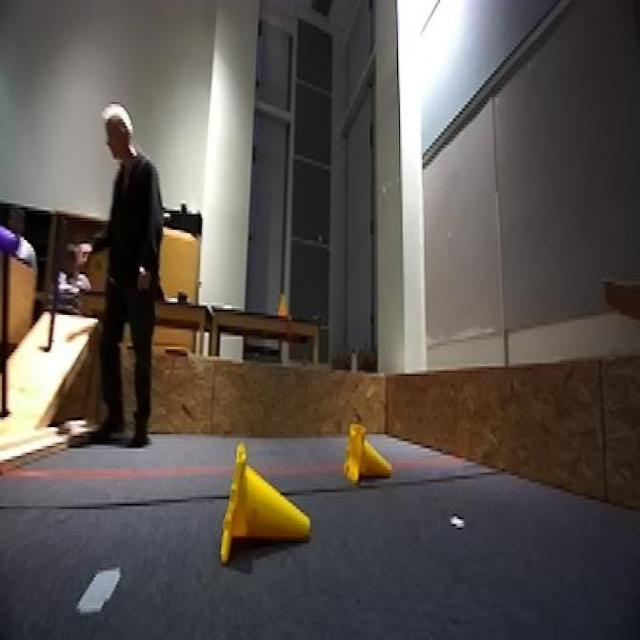frc_cone: (215, 446, 312, 563), (348, 424, 395, 485)
frc_cube: (0, 222, 26, 260)
